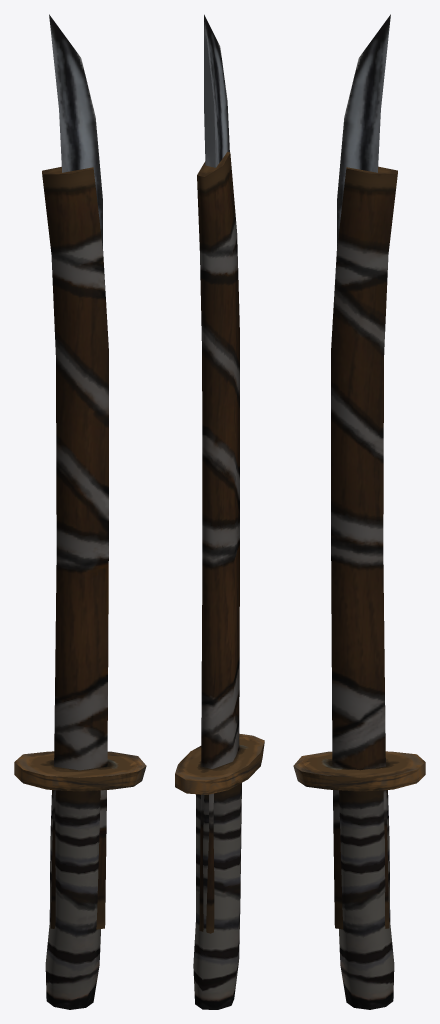
The model's file is WP_1H_Katana01.FBX.
3 views of the same model, side by side, from view 1: azimuth 90°, elevation 25°; view 2: azimuth 150°, elevation 25°; view 3: azimuth 270°, elevation 25° (orthographic).
Visible parts, largest first — view 1: WP_1H_KatanaScabbard01, WP_1H_Katana01; view 2: WP_1H_KatanaScabbard01, WP_1H_Katana01; view 3: WP_1H_KatanaScabbard01, WP_1H_Katana01.
Part boxes in pixels (x1,y1,x2,y2): WP_1H_KatanaScabbard01: (42, 167, 108, 929); WP_1H_Katana01: (14, 14, 146, 1009); WP_1H_KatanaScabbard01: (197, 152, 239, 933); WP_1H_Katana01: (175, 14, 264, 1009); WP_1H_KatanaScabbard01: (331, 166, 397, 929); WP_1H_Katana01: (293, 14, 425, 1009).
Size of the model in its own units: 7.22 by 119 by 14.44.
